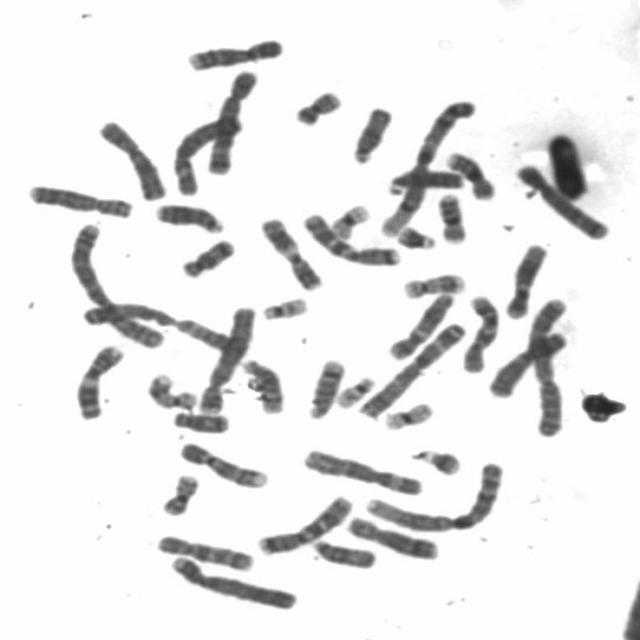A1: (377, 98, 479, 241), (360, 458, 506, 534)
A2: (65, 219, 168, 351), (523, 297, 574, 441)
A3: (354, 318, 468, 421), (78, 301, 249, 362)
B4: (166, 552, 298, 612), (195, 302, 256, 414)
B5: (511, 163, 614, 244), (202, 68, 263, 180)
C10: (151, 530, 256, 572), (457, 291, 502, 374)
C11: (255, 214, 324, 292), (71, 342, 124, 420)
C12: (383, 288, 457, 362), (501, 239, 548, 321)
C6: (298, 445, 422, 496), (169, 116, 244, 197)
C7: (253, 493, 354, 556), (299, 210, 401, 267)
C8: (342, 512, 442, 561), (24, 180, 134, 220)
C9: (175, 439, 268, 490), (185, 36, 286, 75)
D13: (151, 200, 224, 235), (383, 167, 465, 196)
D14: (237, 355, 286, 417), (305, 355, 346, 420)
D15: (346, 104, 393, 166), (308, 536, 377, 570)
E16: (442, 148, 496, 201), (433, 190, 468, 245)
E17: (142, 370, 200, 410), (399, 270, 467, 300)
E18: (177, 236, 236, 279), (169, 409, 230, 434)
F19: (325, 201, 373, 240), (380, 398, 435, 431)
F20: (290, 87, 344, 127), (157, 471, 203, 517)
G21: (408, 445, 463, 476), (392, 222, 438, 251)
G22: (332, 372, 376, 410), (258, 294, 310, 321)
X: (96, 119, 169, 204), (483, 329, 569, 399)
